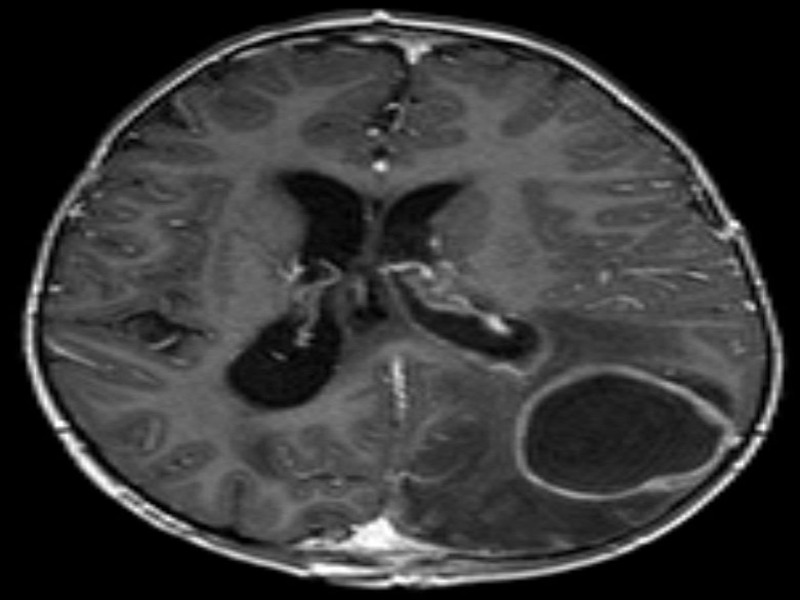tumor: (347, 507, 419, 568)
